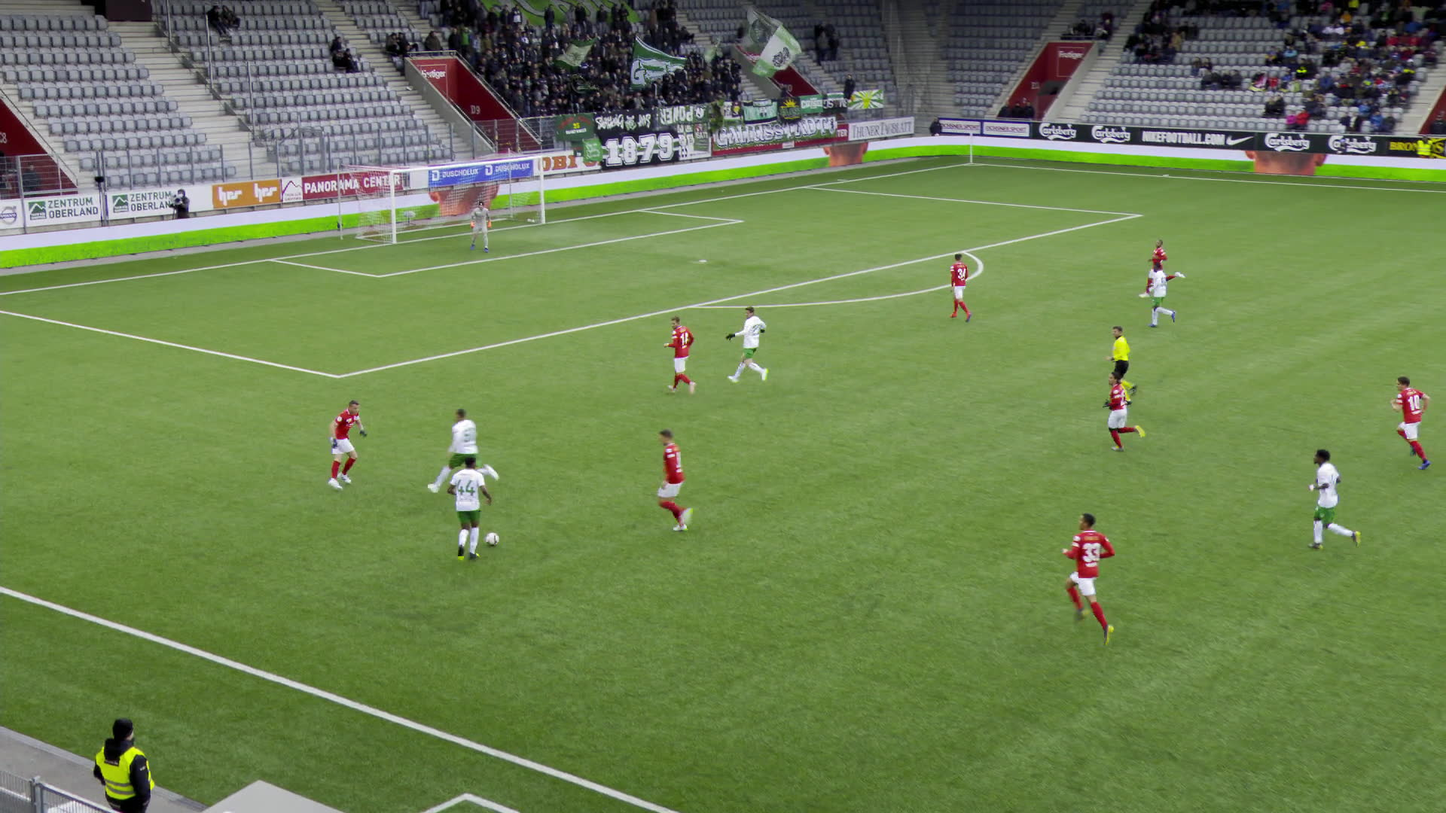ball: (482, 528, 500, 547)
player: (1057, 509, 1118, 647), (425, 404, 500, 494), (1307, 445, 1362, 553), (443, 453, 493, 562), (653, 426, 699, 536), (1384, 375, 1433, 469), (323, 398, 368, 491), (723, 305, 770, 388), (1100, 369, 1146, 452), (1137, 236, 1185, 299), (661, 315, 697, 397), (1146, 259, 1176, 330), (947, 251, 973, 324), (468, 199, 496, 253)
referee: (1100, 324, 1137, 409), (1437, 150, 1445, 183)
